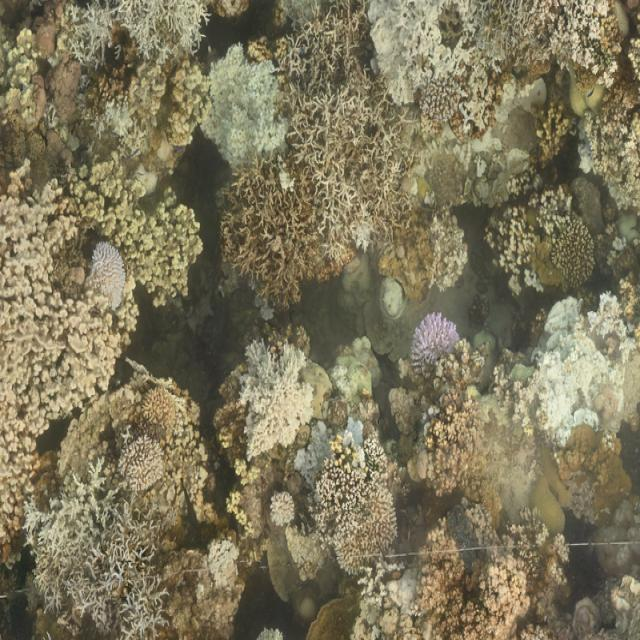Bleached Coral: (29, 486, 170, 631), (198, 48, 286, 174), (246, 334, 318, 457), (77, 1, 207, 51), (409, 305, 469, 379), (84, 239, 130, 313)
